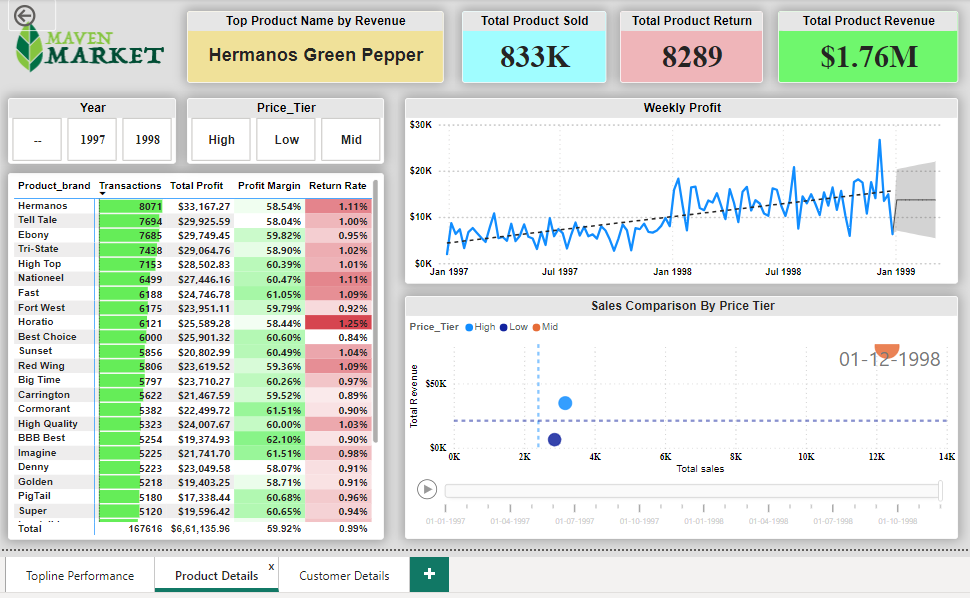

The dashboard page shown, as its layout file describes it:
{"tool":"powerbi","page":{"name":"Product Details","canvas":[1280,720],"ordinal":1},"visuals":[{"type":"card","title":"Top Product Name by Revenue","fields":{"Values":["Min(Products.product_name)"]},"box":[244.8,15.8,335.5,93.6],"z":0},{"type":"image","box":[10.1,15.8,213.1,93.6],"z":1000},{"type":"card","title":"Total Product Sold","fields":{"Values":["Transaction_Data.Quantity Sold"]},"box":[604.8,15.8,188.6,93.6],"z":2000},{"type":"pivotTable","title":"Top","fields":{"Rows":["Products.product_brand"],"Values":["Transaction_Data.Total Transactions","Transaction_Data.Total Profit","Transaction_Data.Profit Margin","Return_Data.Return Rate"]},"box":[10.1,227.5,492.5,479.5],"z":3000},{"type":"actionButton","box":[10.1,0,63.4,41.8],"z":4000},{"type":"card","title":"Total Product Return","fields":{"Values":["Return_Data.Quantity Returned"]},"box":[812.2,15.8,187.2,93.6],"z":5000},{"type":"card","title":"Total Product Revenue","fields":{"Values":["Transaction_Data.Total Revenue"]},"box":[1018.1,15.8,236.2,93.6],"z":6000},{"type":"lineChart","title":"Weekly Profit","fields":{"Category":["Calendar.Start of Week"],"Y":["Transaction_Data.Total Profit"]},"box":[529.9,129.6,724.3,243.4],"z":7000},{"type":"scatterChart","title":"Sales Comparison By Price Tier","fields":{"X":["Transaction_Data.Total Transactions"],"Y":["Transaction_Data.Total Revenue"],"Series":["Products.Price_Tier"],"Size":["Transaction_Data.Quantity Sold"],"Play":["Calendar.Start of Month"]},"box":[529.9,388.8,724.3,318.2],"z":8000},{"type":"advancedSlicerVisual","fields":{"Values":["Calendar.Year"]},"box":[10.1,129.6,220.3,86.4],"z":9000},{"type":"advancedSlicerVisual","fields":{"Values":["Products.Price_Tier"]},"box":[244.8,129.6,257.8,86.4],"z":10000}]}

Visuals, with their boxes on the page's 1280x720 design canvas (x1, y1, x2, y2). These are canvas units, not pixel positions in the 970x598 screenshot, which may show the page scaled, cropped or inside an application window:
"Top Product Name by Revenue" card: bbox=[245, 16, 580, 109]
image: bbox=[10, 16, 223, 109]
"Total Product Sold" card: bbox=[605, 16, 793, 109]
"Top" pivotTable: bbox=[10, 228, 503, 707]
actionButton: bbox=[10, 0, 74, 42]
"Total Product Return" card: bbox=[812, 16, 999, 109]
"Total Product Revenue" card: bbox=[1018, 16, 1254, 109]
"Weekly Profit" lineChart: bbox=[530, 130, 1254, 373]
"Sales Comparison By Price Tier" scatterChart: bbox=[530, 389, 1254, 707]
advancedSlicerVisual - Calendar.Year: bbox=[10, 130, 230, 216]
advancedSlicerVisual - Products.Price_Tier: bbox=[245, 130, 503, 216]
